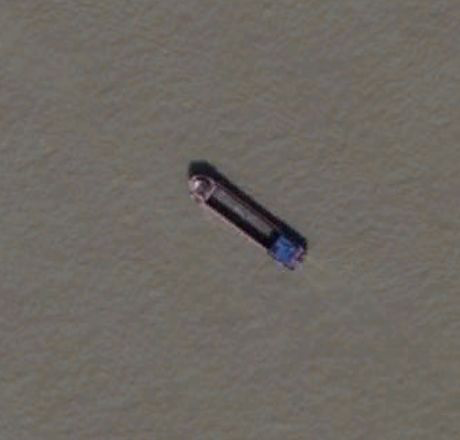boat: (183, 169, 311, 272)
